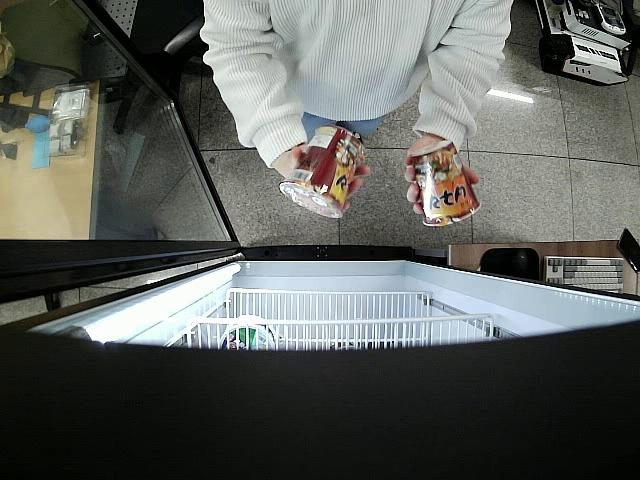00_hand: (292, 144, 371, 215), (404, 144, 479, 214)
06_nuguri_S: (277, 125, 369, 219), (406, 141, 483, 224)
